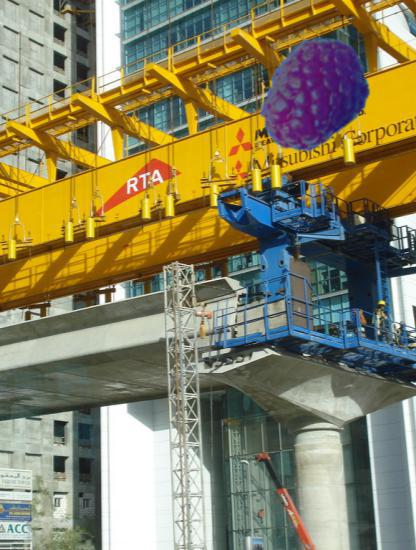Raspberry: (250, 31, 374, 155)
